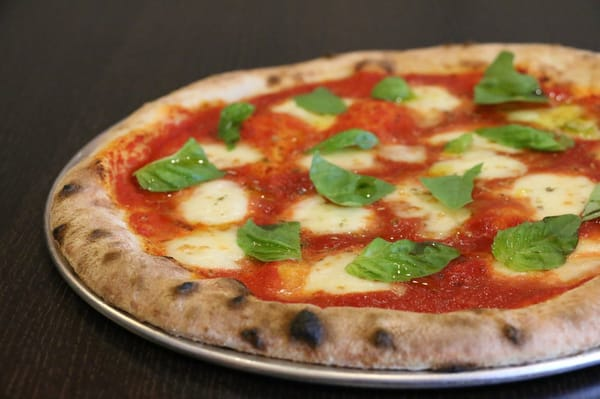sandwich: (65, 54, 600, 375)
